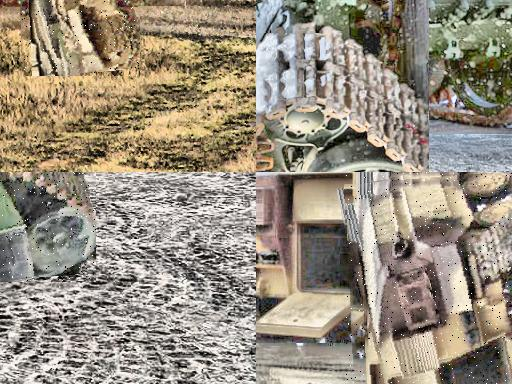tanks: (347, 173, 512, 384), (257, 1, 431, 173), (1, 173, 97, 283), (29, 1, 140, 77)
